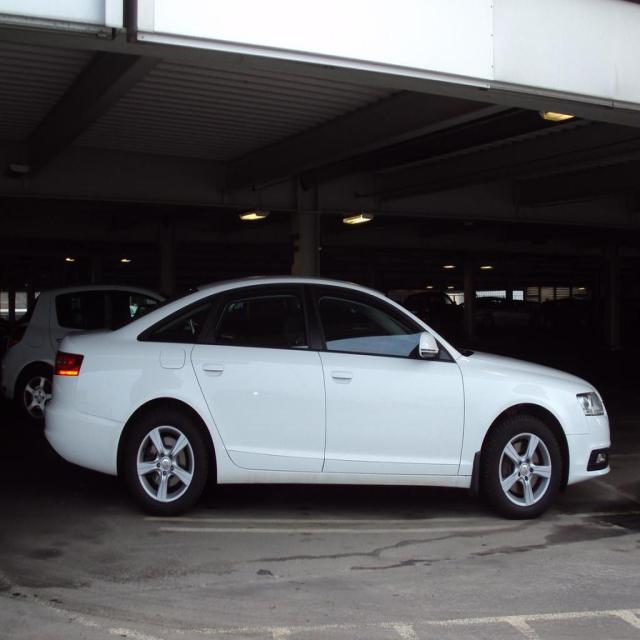car: (44, 279, 614, 519)
